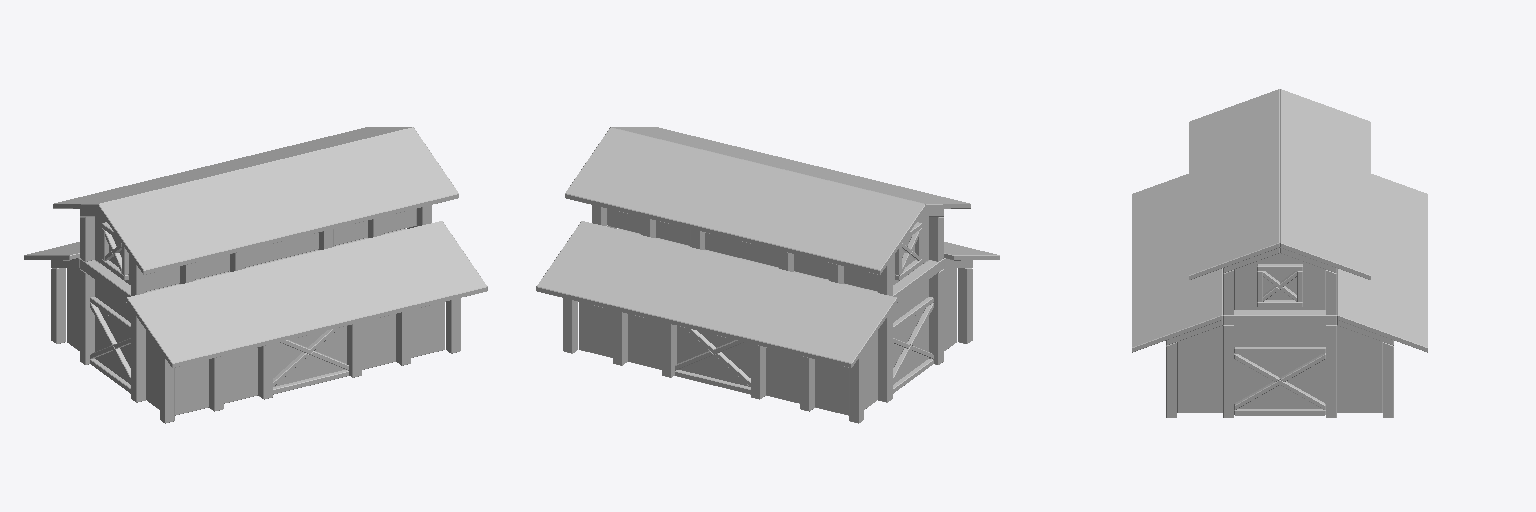
Rendered from Barn.obj.
3 renders of one model, left to right at view 1: azimuth 30°, elevation 25°; view 2: azimuth 150°, elevation 25°; view 3: azimuth 270°, elevation 25°, orthographic.
Visible parts, largest first — view 1: Barn_Base_Roof_0.002; view 2: Barn_Base_Roof_0.002; view 3: Barn_Base_Roof_0.002.
Part boxes in pixels (bbox=[...]): Barn_Base_Roof_0.002: bbox=[24, 127, 487, 423]; Barn_Base_Roof_0.002: bbox=[536, 127, 999, 423]; Barn_Base_Roof_0.002: bbox=[1132, 89, 1427, 417].
Size of the model in its own units: 16 by 8.74 by 13.